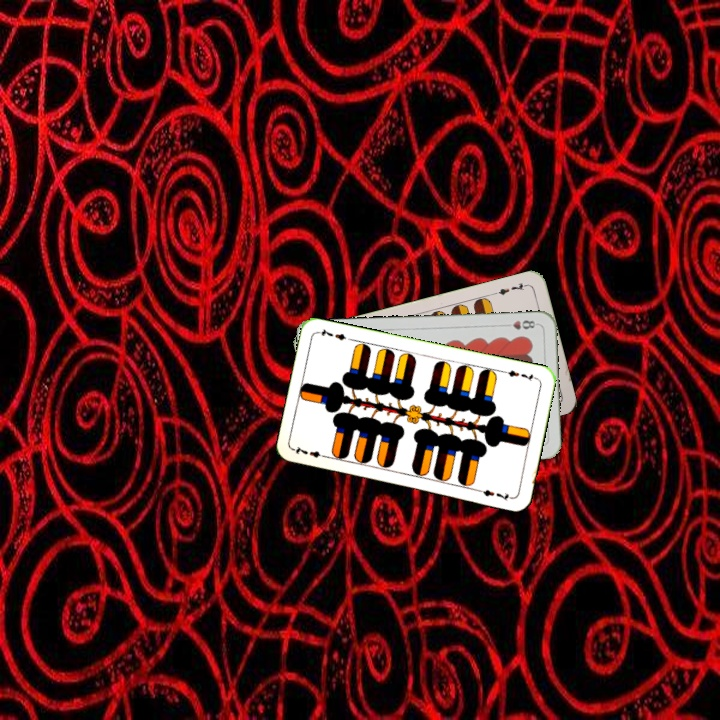E7: (290, 442, 331, 461), (490, 279, 530, 298), (500, 366, 540, 384)
H8: (500, 316, 540, 332)
